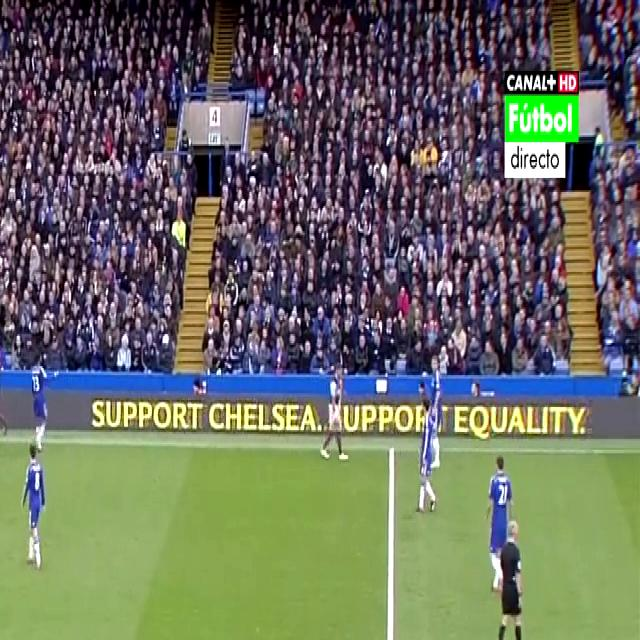soccer-player: (491, 519, 536, 640), (18, 436, 52, 574), (483, 446, 517, 577), (409, 413, 441, 520), (320, 359, 349, 468), (420, 353, 448, 464), (28, 354, 51, 451), (0, 336, 4, 439)
